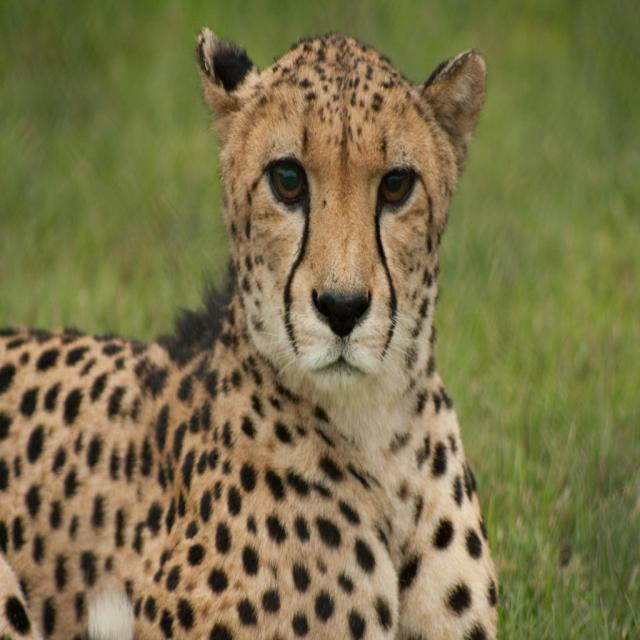Cheetah: (0, 24, 500, 639)
